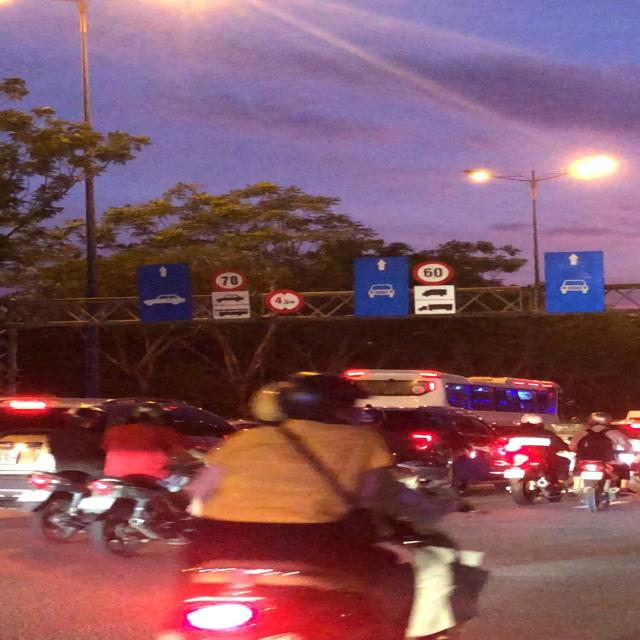Bien bao han che chieu cao: (266, 286, 307, 316)
Bien bao toc do toi da cho phep: (409, 260, 462, 288), (208, 269, 249, 294)
